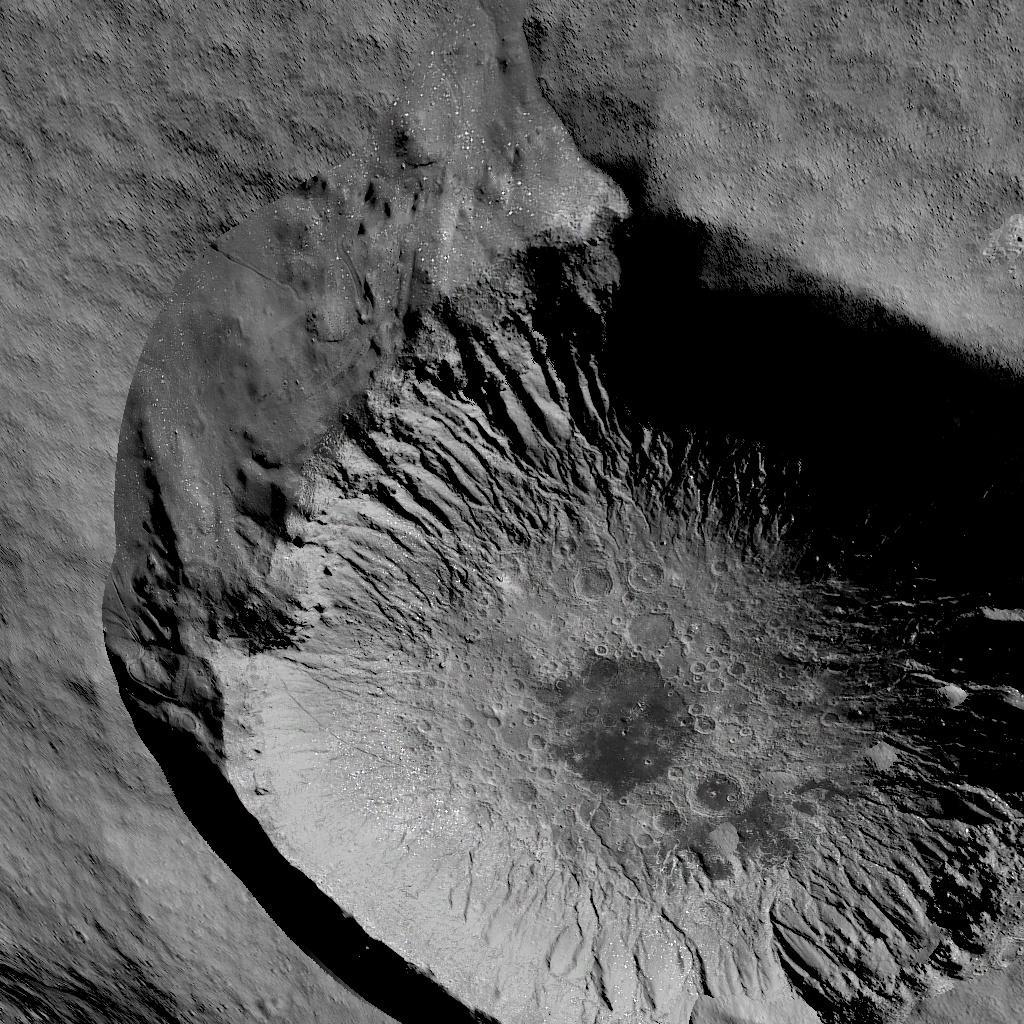Crater: (1, 70, 1024, 1024)
Plan surface: (1, 0, 1024, 56)
